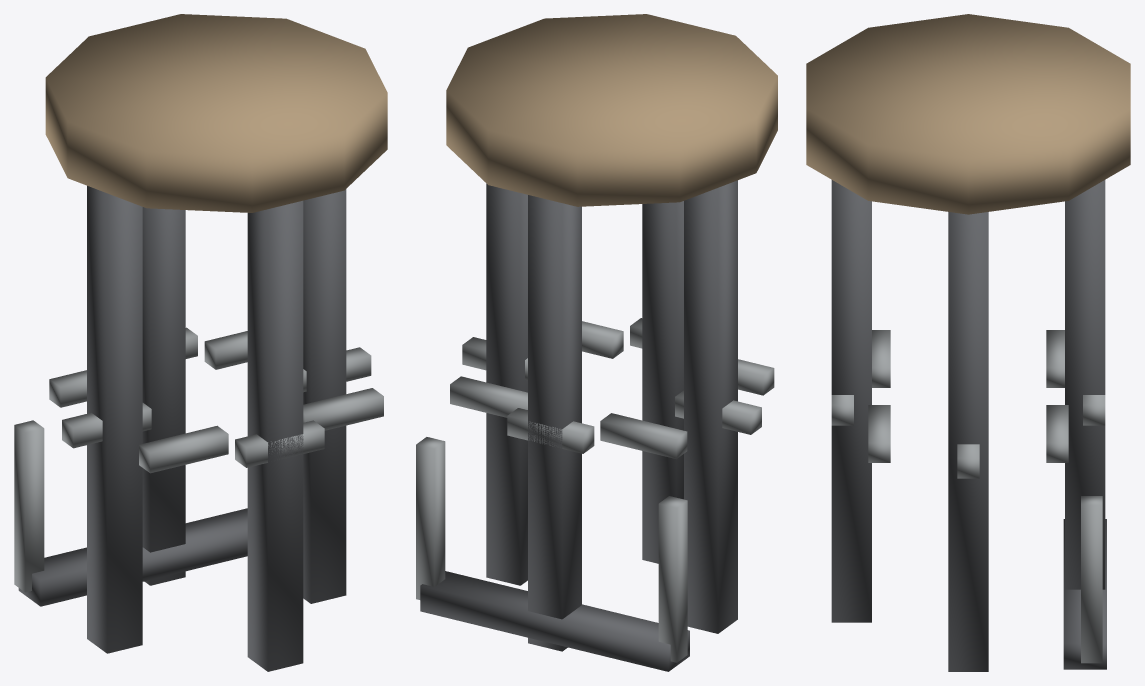
File: counter_stool__reinforced.glb
The picture shows the model from 3 angles, left to right: view 1: azimuth 30°, elevation 25°; view 2: azimuth 150°, elevation 25°; view 3: azimuth 270°, elevation 25°; orthographic projection. The views are drawn at different scales.
Visible parts, largest first — view 1: world; view 2: world; view 3: world.
Boxes of the visible parts, bbox=[...] form: world: bbox=[14, 14, 387, 671]; world: bbox=[416, 14, 777, 671]; world: bbox=[806, 14, 1130, 671].
Bounding box in the file's own units: 0.3914 × 0.6681 × 0.3722.
